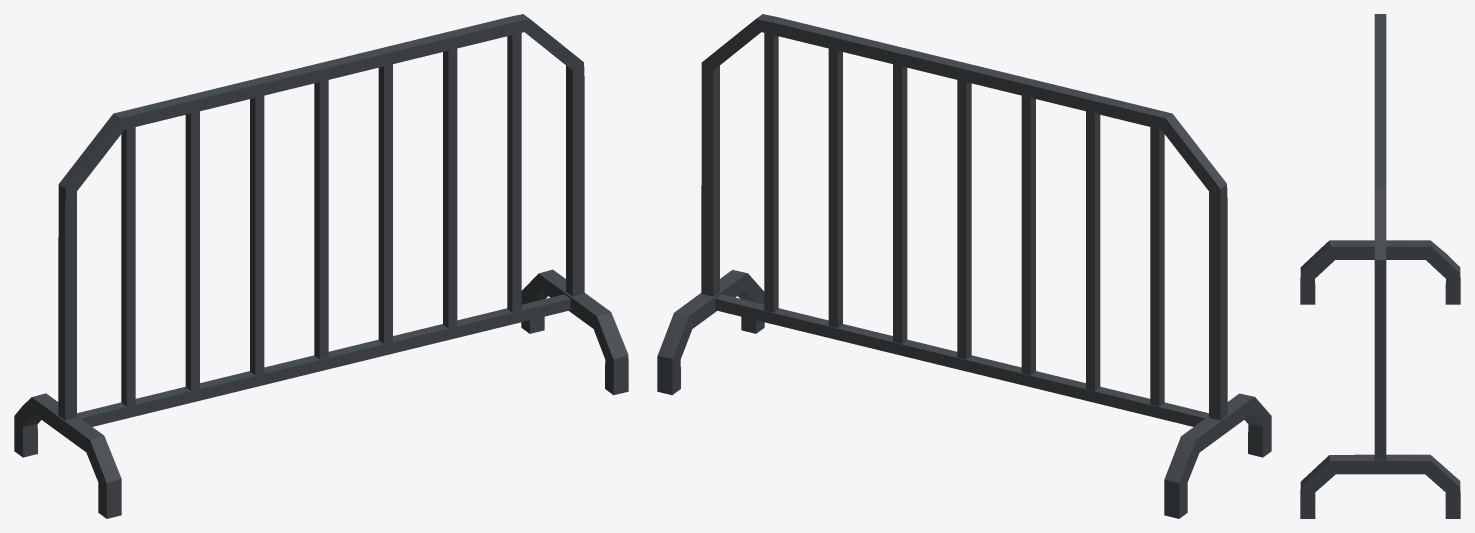
Rendered from Barrier_01.fbx.
3 renders of one model, left to right at view 1: azimuth 30°, elevation 25°; view 2: azimuth 150°, elevation 25°; view 3: azimuth 270°, elevation 25°, orthographic. The views are drawn at different scales.
Visible parts, largest first — view 1: Barrier_01; view 2: Barrier_01; view 3: Barrier_01.
Boxes of the visible parts, left/top/right/bottom form: Barrier_01: left=14, top=14, right=628, bottom=518; Barrier_01: left=657, top=14, right=1271, bottom=518; Barrier_01: left=1300, top=14, right=1460, bottom=518.
Bounding box in the file's own units: 150 × 97.64 × 46.04.
